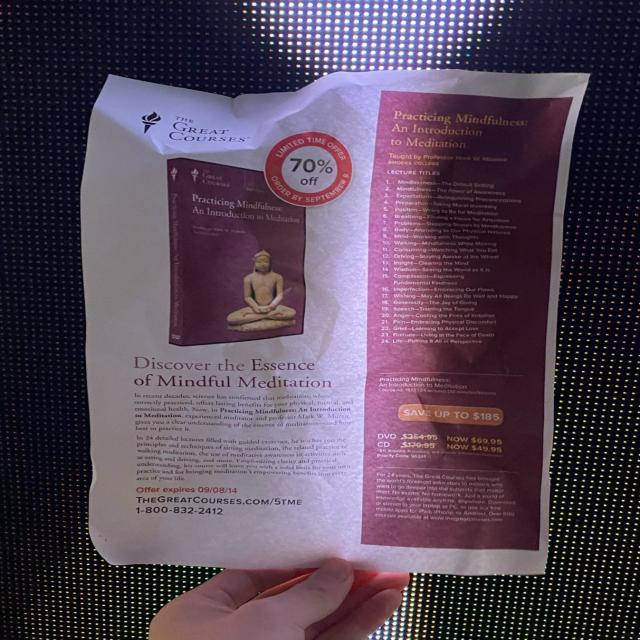document: (82, 70, 589, 575)
